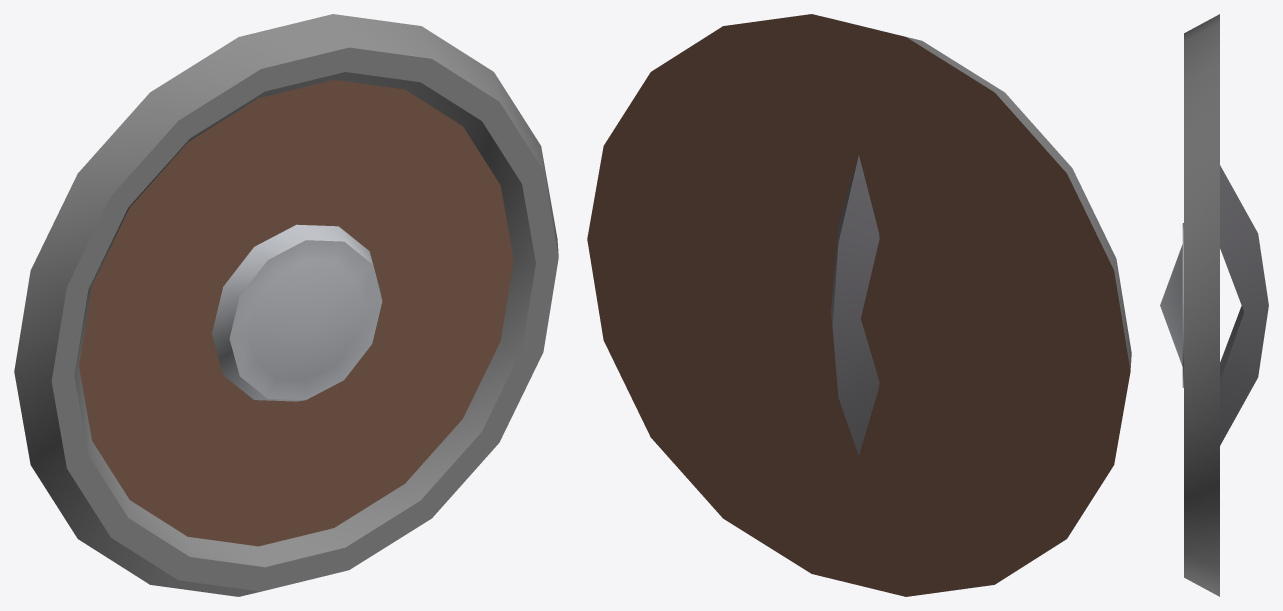
Rendered from Shield_1.fbx.
3 renders of one model, left to right at view 1: azimuth 30°, elevation 25°; view 2: azimuth 150°, elevation 25°; view 3: azimuth 270°, elevation 25°, orthographic. The views are drawn at different scales.
Visible parts, largest first — view 1: polySurface226; view 2: polySurface226; view 3: polySurface226.
Boxes of the visible parts, bbox=[...] form: polySurface226: bbox=[14, 14, 558, 596]; polySurface226: bbox=[587, 14, 1131, 596]; polySurface226: bbox=[1160, 14, 1268, 596].
Bounding box in the file's own units: 160 × 158 × 29.79.
